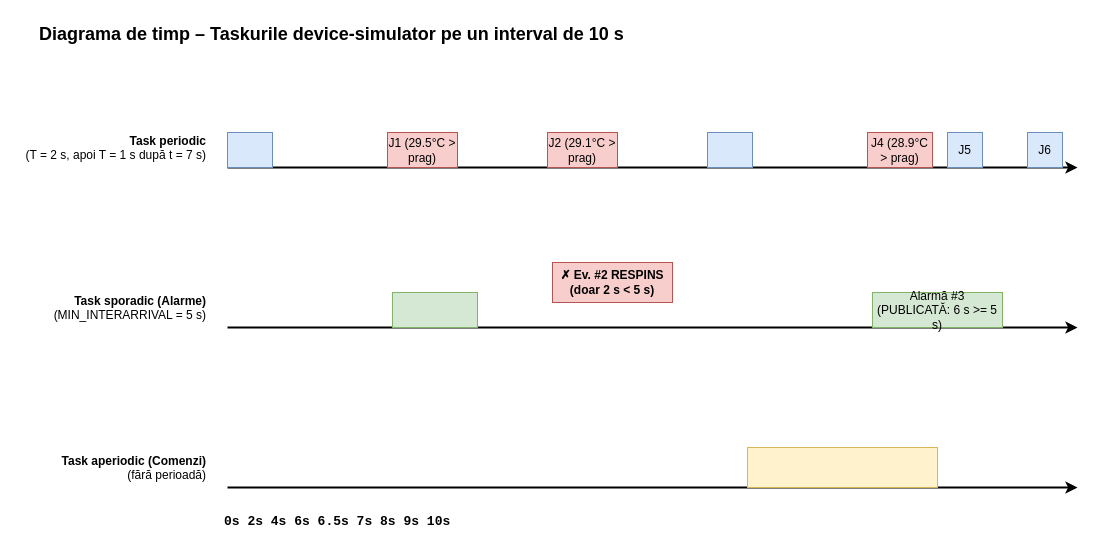
This 1119x554 diagram has some shape labels left out. The shapes that lost their labels are listed below. From the top down, each one's box as (x1, y1, x2, y2) in pixels, then its label:
(226, 132, 272, 168): J0 (22.4°C)
(706, 132, 752, 168): J3 (23.0°C)
(392, 292, 478, 328): Alarmă #1 (PUBLICATĂ)
(746, 446, 938, 488): Job Aperiodic: SET_INTERVAL 1000 (eliberat la t = 6.5 s -> publică OK)
